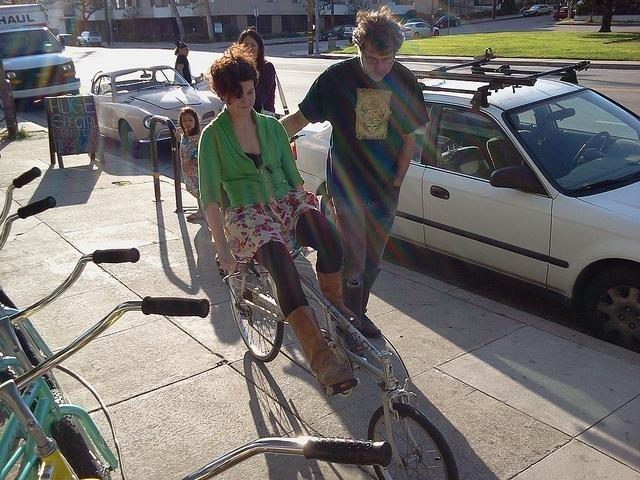bicycle: (226, 259, 459, 480), (0, 299, 213, 475), (2, 248, 141, 376), (0, 199, 52, 370), (186, 442, 388, 476), (1, 166, 42, 226)
car: (397, 48, 640, 350), (91, 66, 225, 160), (403, 22, 440, 39), (432, 13, 462, 28), (522, 4, 554, 17), (76, 31, 102, 46), (554, 7, 576, 20), (337, 27, 357, 40), (56, 34, 72, 43)
truck: (1, 5, 82, 110)
